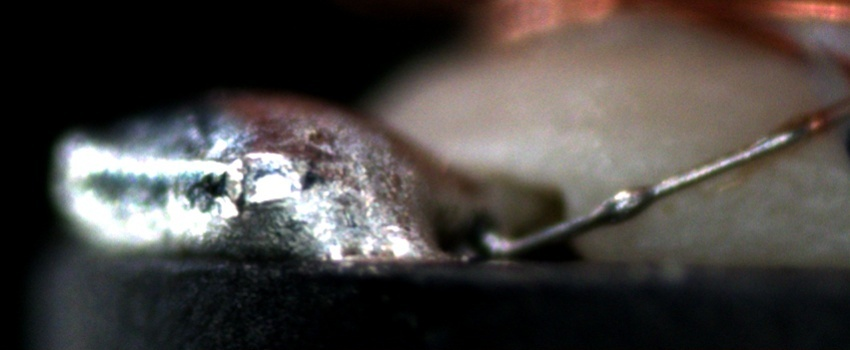TB: (595, 182, 652, 229)
TS: (496, 118, 808, 258)
TTCW: (479, 98, 848, 260)
